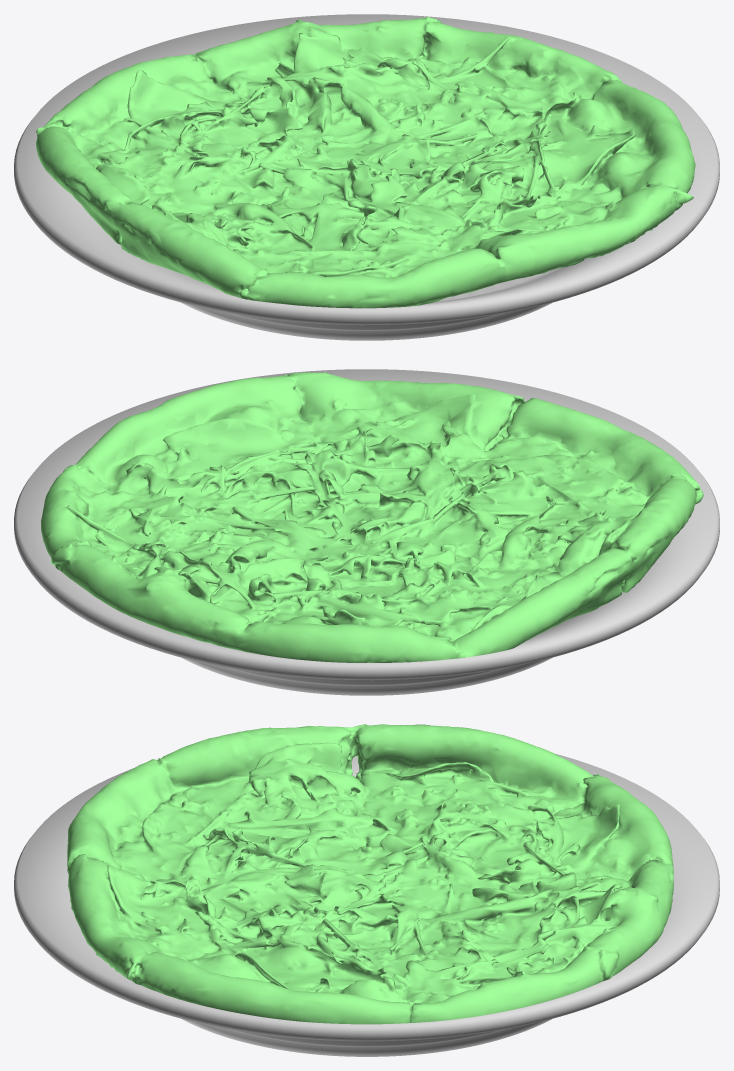
Rendered from pizza-sf-1.fbx.
The picture shows the model from 3 angles, top to bottom: view 1: azimuth 30°, elevation 25°; view 2: azimuth 150°, elevation 25°; view 3: azimuth 270°, elevation 25°; orthographic projection.
Visible parts, largest first — view 1: pizza, Tarelka001; view 2: pizza, Tarelka001; view 3: pizza, Tarelka001.
Boxes of the visible parts, x1,y1,x2,y2 form: pizza: [36, 16, 695, 308]; Tarelka001: [14, 14, 719, 340]; pizza: [41, 372, 703, 662]; Tarelka001: [14, 369, 719, 695]; pizza: [67, 724, 673, 1024]; Tarelka001: [14, 753, 719, 1056].
Size of the model in its own units: 48.59 by 8.28 by 48.59.
